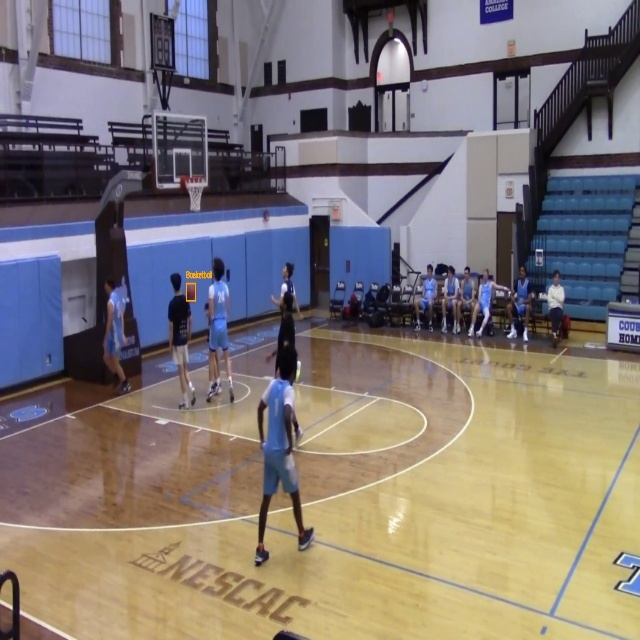Basketball: (186, 283, 196, 301)
